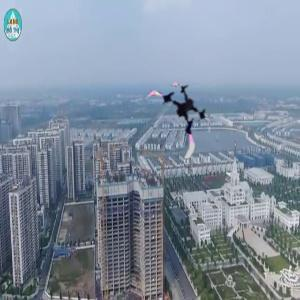drone: (142, 75, 219, 152)
